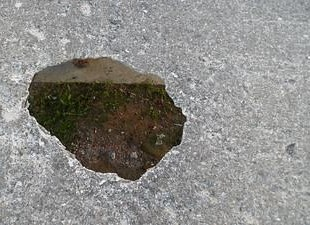Spalling: (26, 56, 189, 182)
